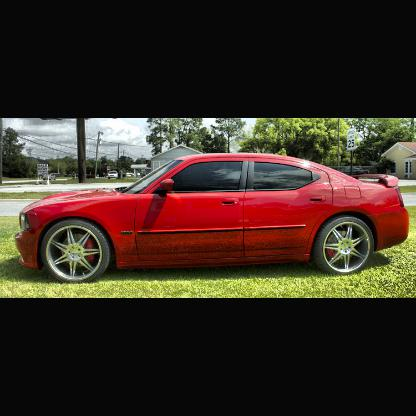Dodge Charger SRT-8 2009: (15, 154, 412, 285)
